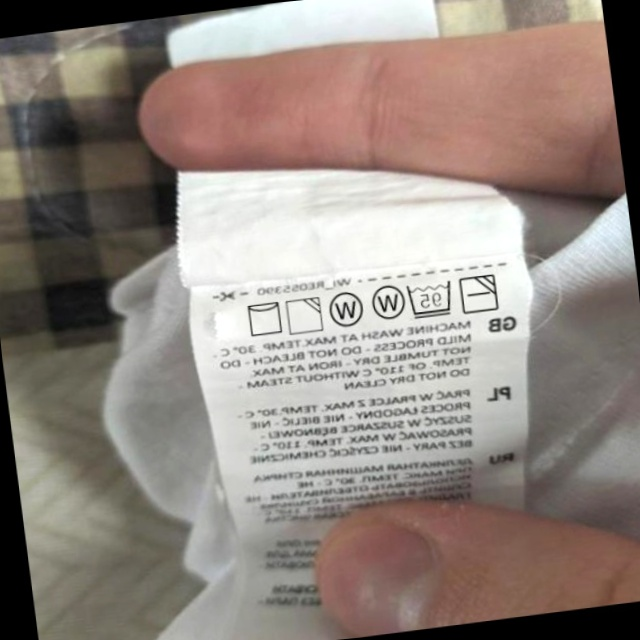95C: (404, 277, 457, 321)
dry_flat_in_shade: (457, 270, 502, 317)
line_dry: (242, 297, 286, 340)
shade_dry: (283, 294, 326, 337)
wet_clean: (325, 288, 366, 332), (367, 279, 407, 324)
